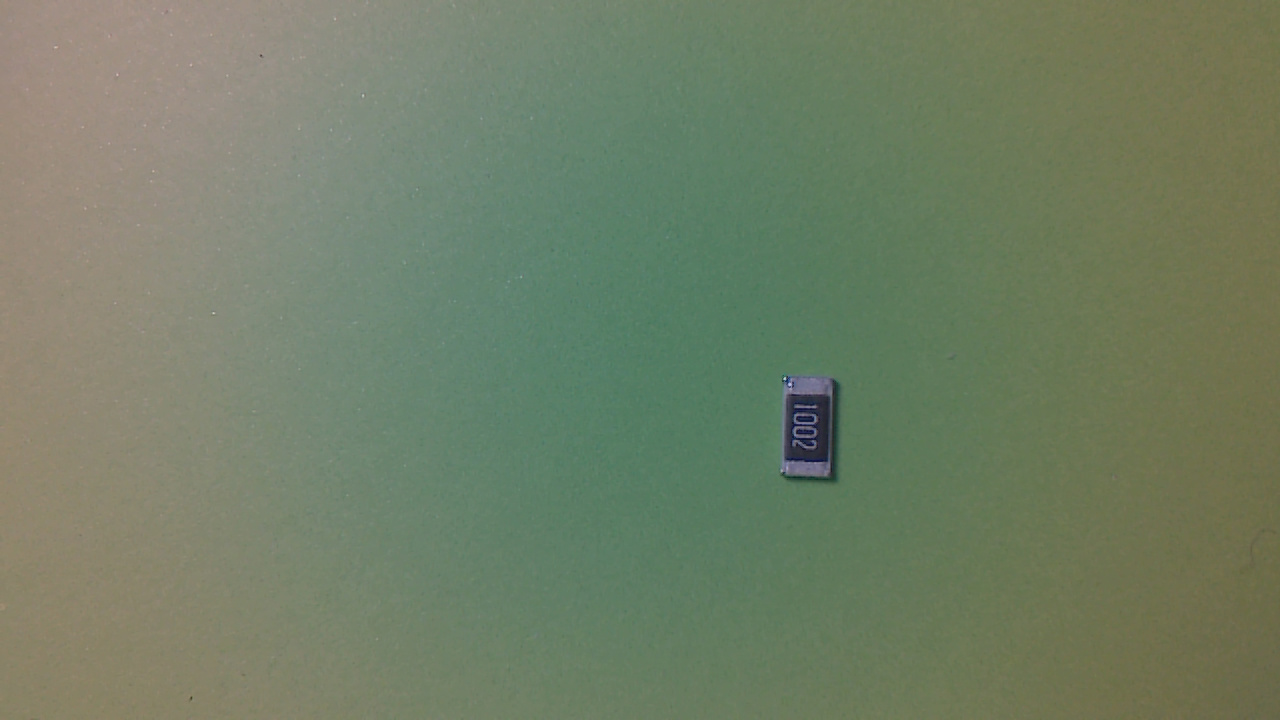Resistor: (781, 375, 851, 494)
